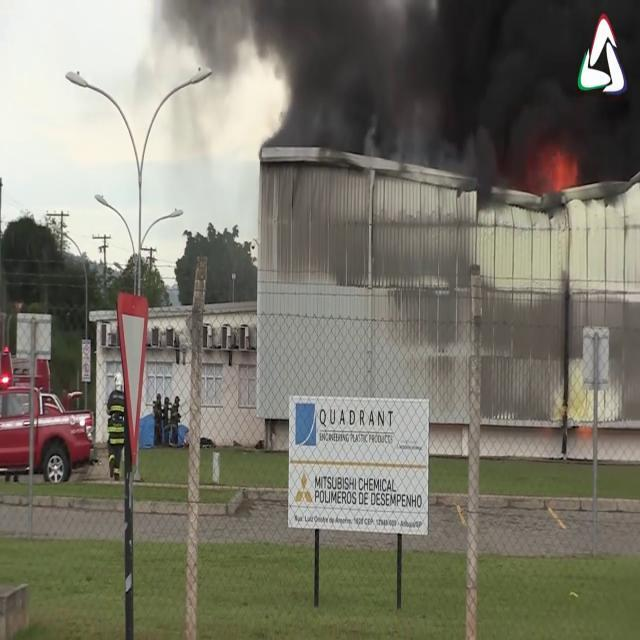Fire: (531, 142, 586, 198)
